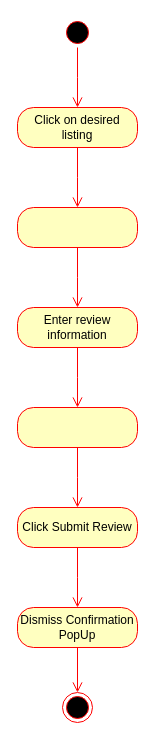
Some shapes in this 155 by 740 pixel diagram are drawn without their labels. Here are the shapes that lost their labels. From the top down, the centre of each, then its label:
At (x=77, y=227): "Click Write Review".
At (x=77, y=427): "Give Star rating".
